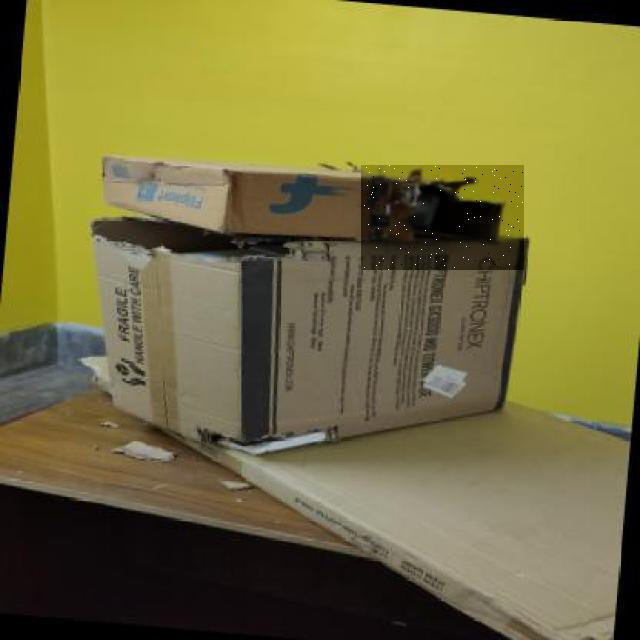leakage: (361, 165, 523, 270)
